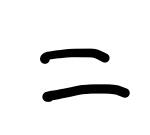eqv: (40, 48, 130, 102)
